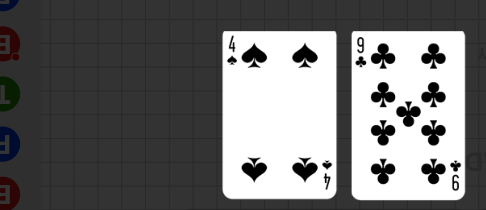4S: (226, 34, 239, 67)
9C: (354, 35, 368, 70)
